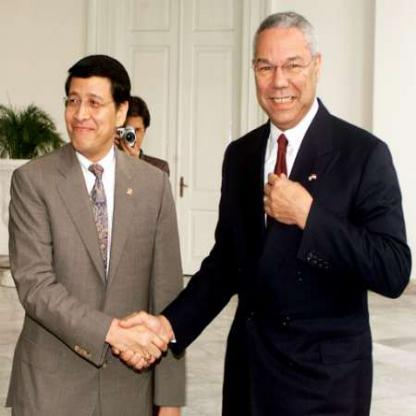face: (253, 14, 317, 128), (65, 56, 120, 156), (117, 105, 146, 160)
